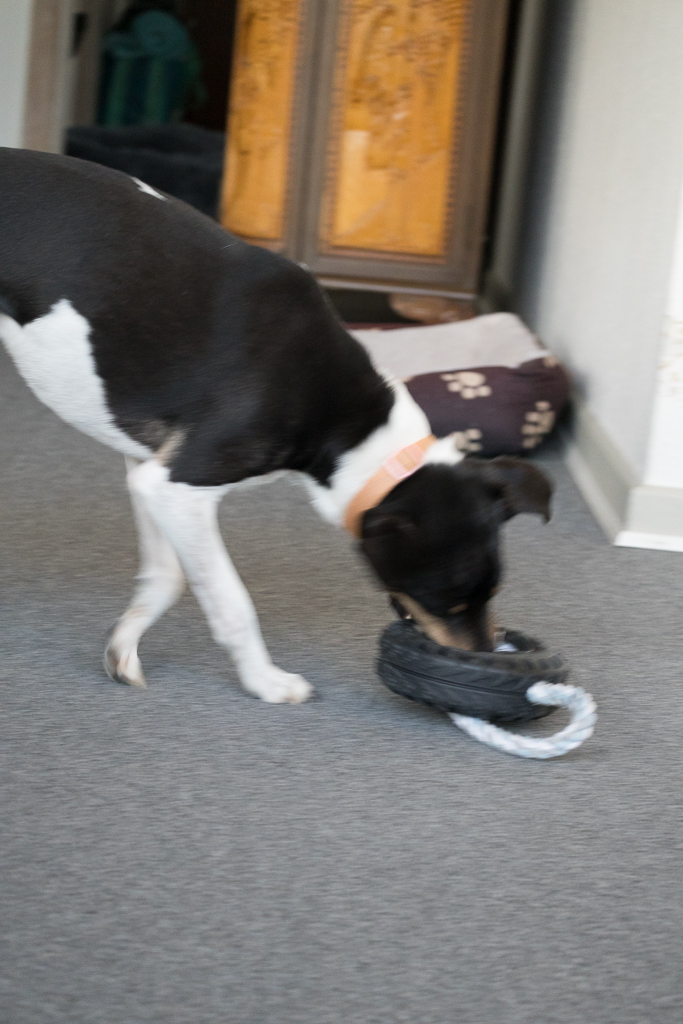Dog: (0, 128, 564, 719)
